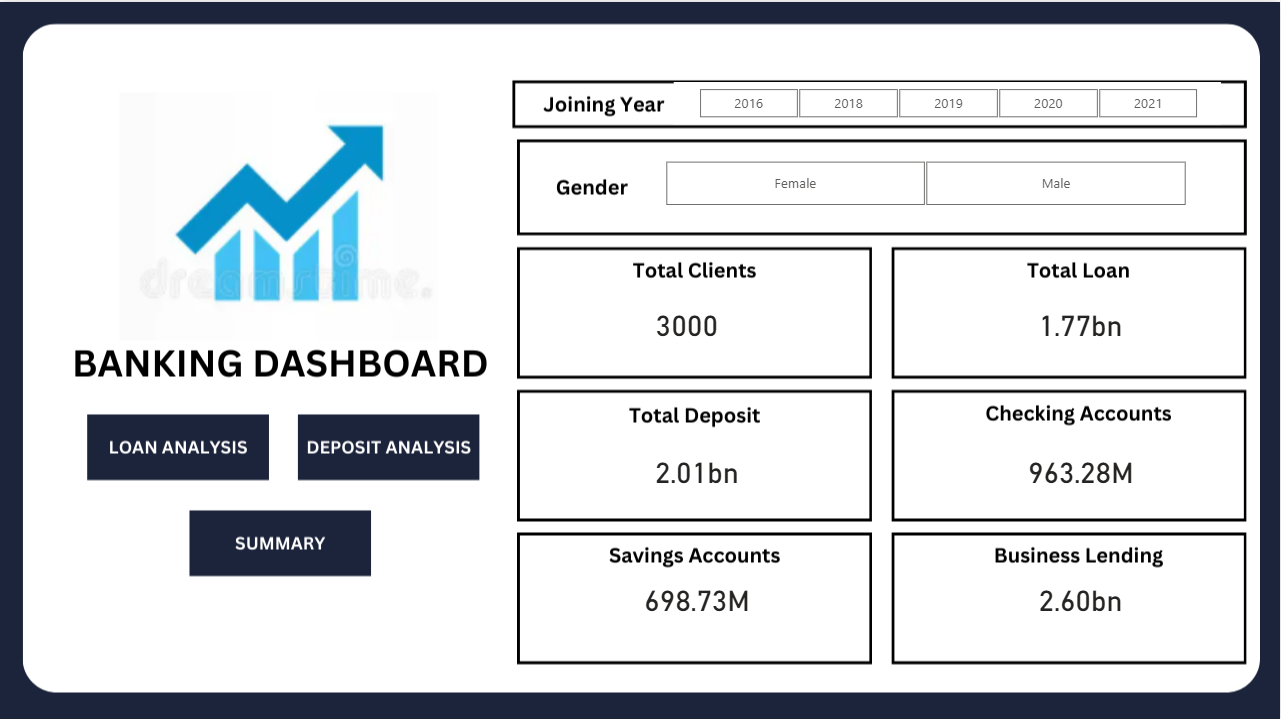

The page's visual inventory and layout, read from the dashboard file:
{"tool":"powerbi","page":{"name":"Home","canvas":[1280,720],"ordinal":0},"visuals":[{"type":"card","fields":{"Values":["CountNonNull(Banking_Clients.Name)"]},"box":[609.3,286.8,156.4,72.7],"z":0},{"type":"card","fields":{"Values":["Sum(Banking_Clients.Checking Accounts)"]},"box":[1003.1,432.2,156.4,72.7],"z":1000},{"type":"card","fields":{"Values":["Sum(Banking_Clients.Bank Deposits)"]},"box":[618.9,432.2,156.4,72.7],"z":2000},{"type":"card","fields":{"Values":["Sum(Banking_Clients.Bank Loans)"]},"box":[1003.1,286.8,156.4,72.7],"z":3000},{"type":"card","fields":{"Values":["Sum(Banking_Clients.Business Lending)"]},"box":[1003.1,561.2,156.4,72.7],"z":4000},{"type":"card","fields":{"Values":["Sum(Banking_Clients.Saving Accounts)"]},"box":[618.9,561.2,156.4,72.7],"z":5000},{"type":"slicer","fields":{"Values":["Banking_Clients.GenderId"]},"box":[639.5,152.3,569.5,57.6],"z":6000},{"type":"slicer","fields":{"Values":["Banking_Clients.Joined Bank.Variation.Date Hierarchy.Year"]},"box":[673.8,79.6,547.5,42.5],"z":7000},{"type":"actionButton","box":[90.6,415.8,171.5,53.5],"z":8000},{"type":"actionButton","box":[306,417.2,171.5,53.5],"z":9000},{"type":"actionButton","box":[190.7,517.3,171.5,43.9],"z":10000}]}

Visuals, with their boxes in screenshot pixels (x1, y1, x2, y2), scaled from the page's 1280x720 canvas onto the 1281x719 screenshot:
card - CountNonNull(Banking_Clients.Name): (left=610, top=286, right=766, bottom=359)
card - Sum(Banking_Clients.Checking Accounts): (left=1004, top=432, right=1160, bottom=504)
card - Sum(Banking_Clients.Bank Deposits): (left=619, top=432, right=776, bottom=504)
card - Sum(Banking_Clients.Bank Loans): (left=1004, top=286, right=1160, bottom=359)
card - Sum(Banking_Clients.Business Lending): (left=1004, top=560, right=1160, bottom=633)
card - Sum(Banking_Clients.Saving Accounts): (left=619, top=560, right=776, bottom=633)
slicer - Banking_Clients.GenderId: (left=640, top=152, right=1210, bottom=210)
slicer - Banking_Clients.Joined Bank.Variation.Date Hierarchy.Year: (left=674, top=79, right=1222, bottom=122)
actionButton: (left=91, top=415, right=262, bottom=469)
actionButton: (left=306, top=417, right=478, bottom=470)
actionButton: (left=191, top=517, right=362, bottom=560)
